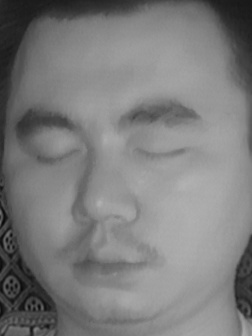blink: (133, 135, 190, 170), (32, 139, 84, 176)
mouth: (68, 232, 160, 290)
